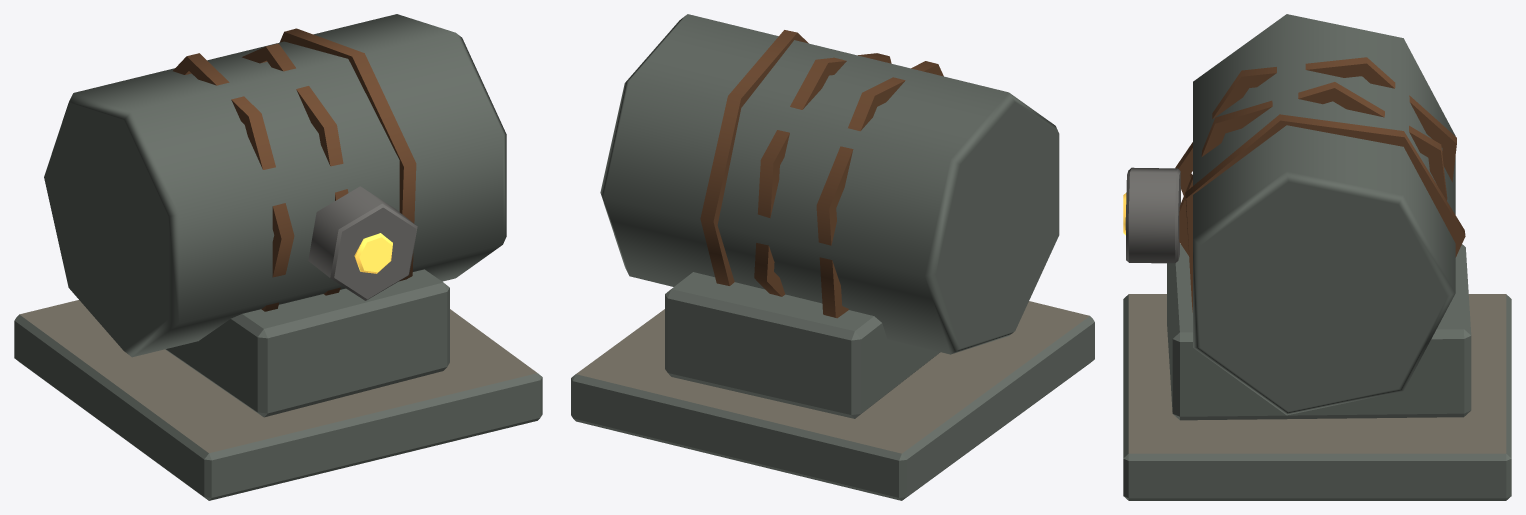
File: R4X_DrivePower_LOD1.fbx
3 renders of one model, left to right at view 1: azimuth 30°, elevation 25°; view 2: azimuth 150°, elevation 25°; view 3: azimuth 270°, elevation 25°, orthographic.
Parts seen in each view (by area): view 1: R4X_DrivePower_LOD1; view 2: R4X_DrivePower_LOD1; view 3: R4X_DrivePower_LOD1.
Part boxes in pixels (x1=…): R4X_DrivePower_LOD1: x1=14, y1=14, x2=542, y2=500; R4X_DrivePower_LOD1: x1=571, y1=14, x2=1094, y2=500; R4X_DrivePower_LOD1: x1=1123, y1=14, x2=1511, y2=500.
Bounding box in the file's own units: 0.52 × 0.4984 × 0.52.
